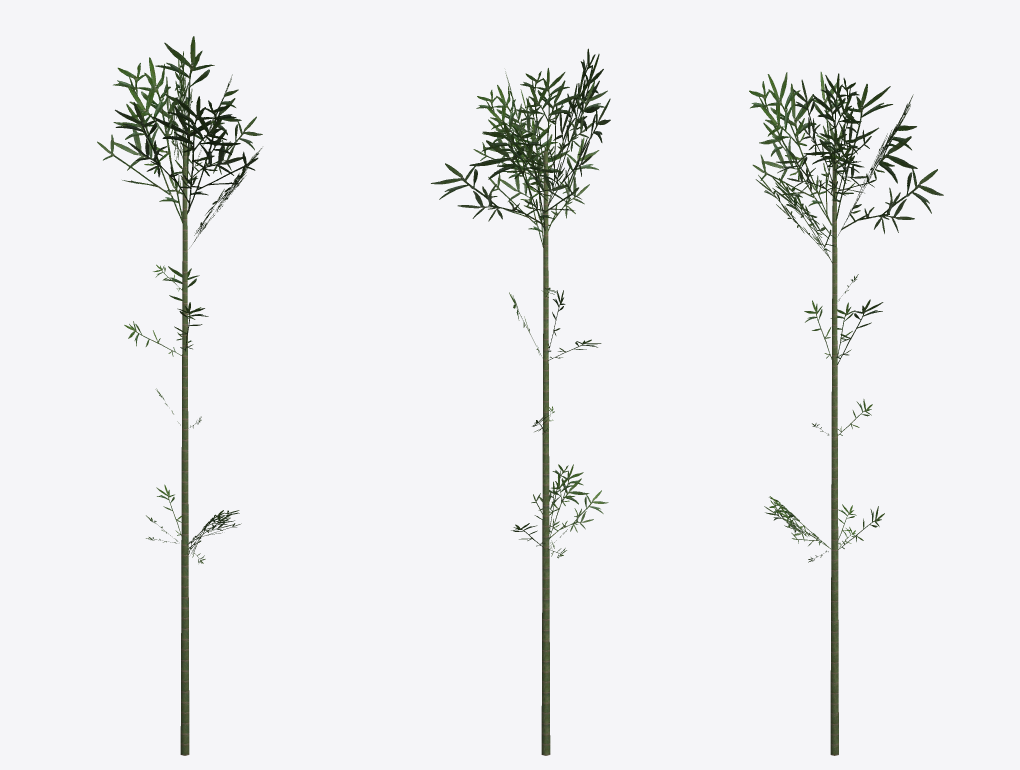
Rendered from leaf_bamboo_med_l0.fbx.
3 views of the same model, side by side, from view 1: azimuth 30°, elevation 25°; view 2: azimuth 150°, elevation 25°; view 3: azimuth 270°, elevation 25° (orthographic). The views are drawn at different scales.
Parts seen in each view (by area): view 1: mesh_node; view 2: mesh_node; view 3: mesh_node.
Part boxes in pixels (box(x1,y1,x2,y2)): mesh_node: box(97, 36, 262, 755); mesh_node: box(431, 48, 610, 755); mesh_node: box(749, 72, 943, 755).
Size of the model in its own units: 4.58 by 13.2 by 5.62.
